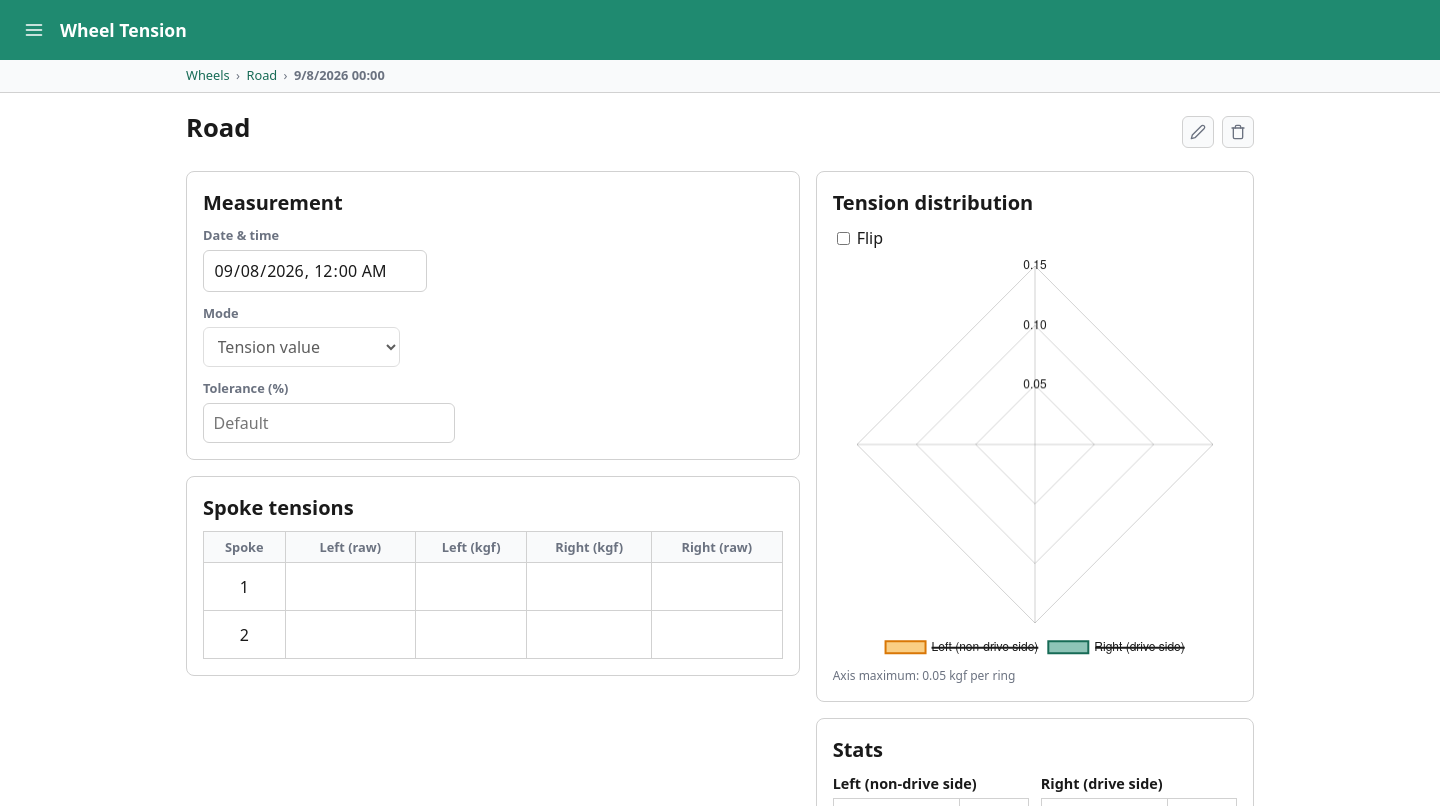
Test: MeasurementDetailPage › deletes the measurement via the delete dialog and returns to the wheel
This screenshot has width=1440, height=806.
Click the button named "Delete measurement". click: (1238, 132)
box: [1222,116,1254,148]
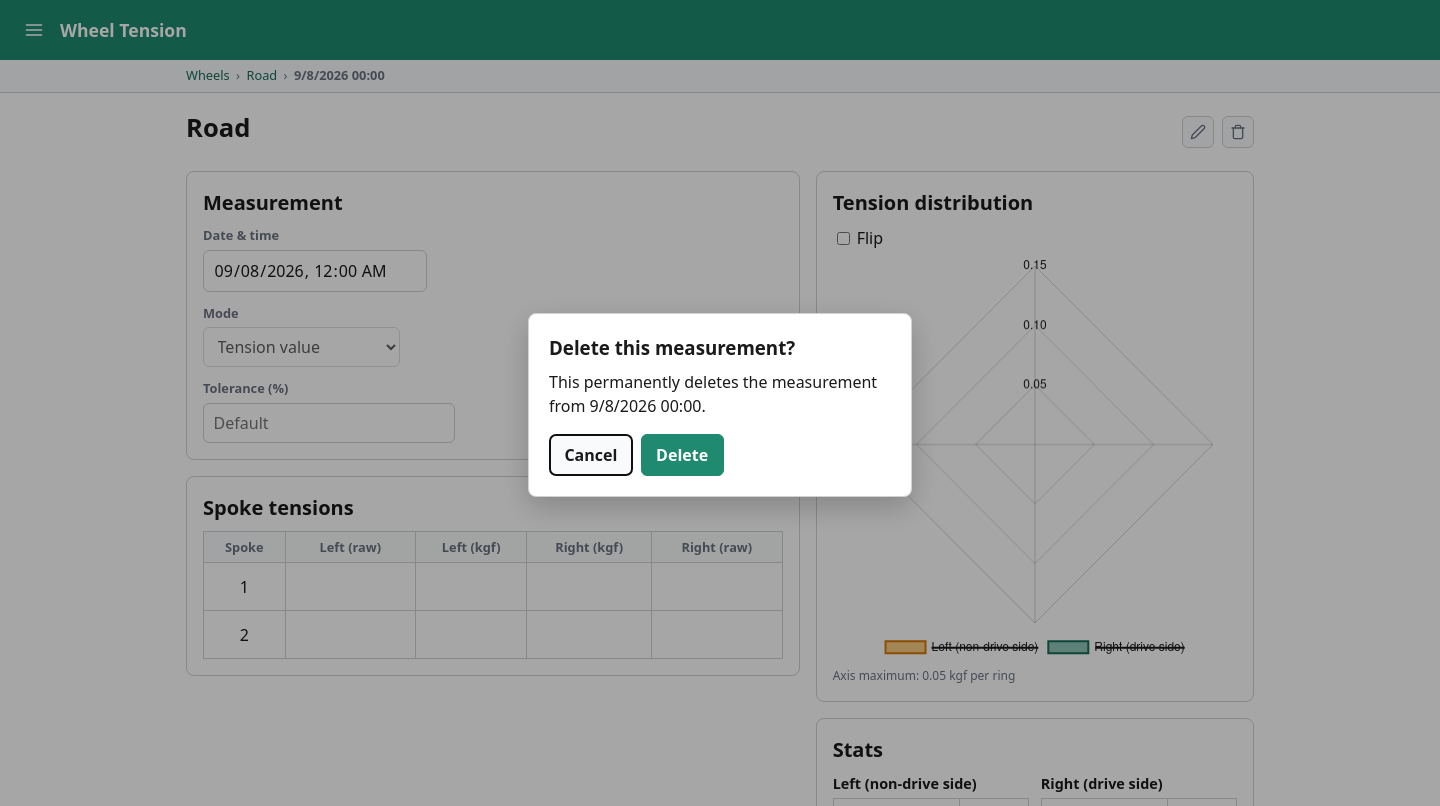
Click the button "Delete". click: (682, 455)
box: [641,434,724,476]
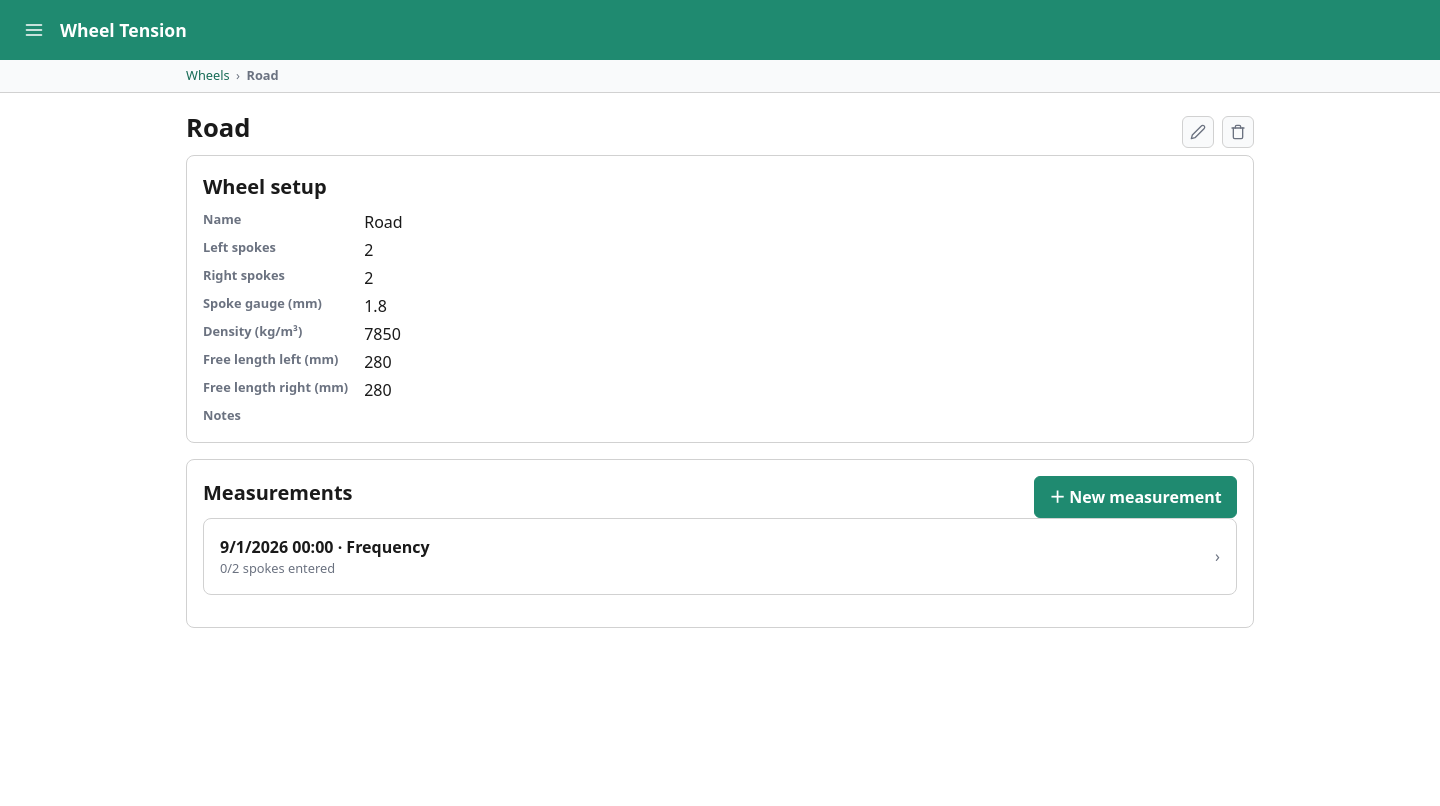
Result: the heading "Wheel setup" is shown at [203,172,327,202]
